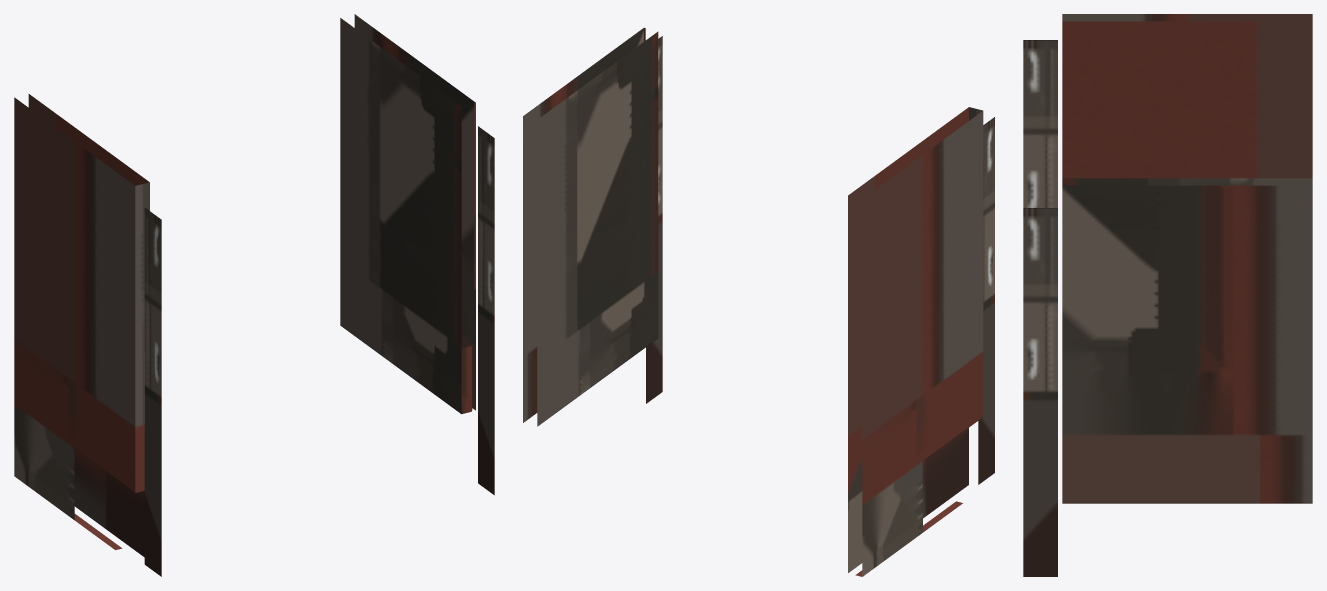
Rendered from section-18.obj.
The picture shows the model from 3 angles, left to right: view 1: azimuth 30°, elevation 25°; view 2: azimuth 150°, elevation 25°; view 3: azimuth 270°, elevation 25°; orthographic projection. The views are drawn at different scales.
Bounding box in the file's own units: 0.94 × 1 × 0.67.
